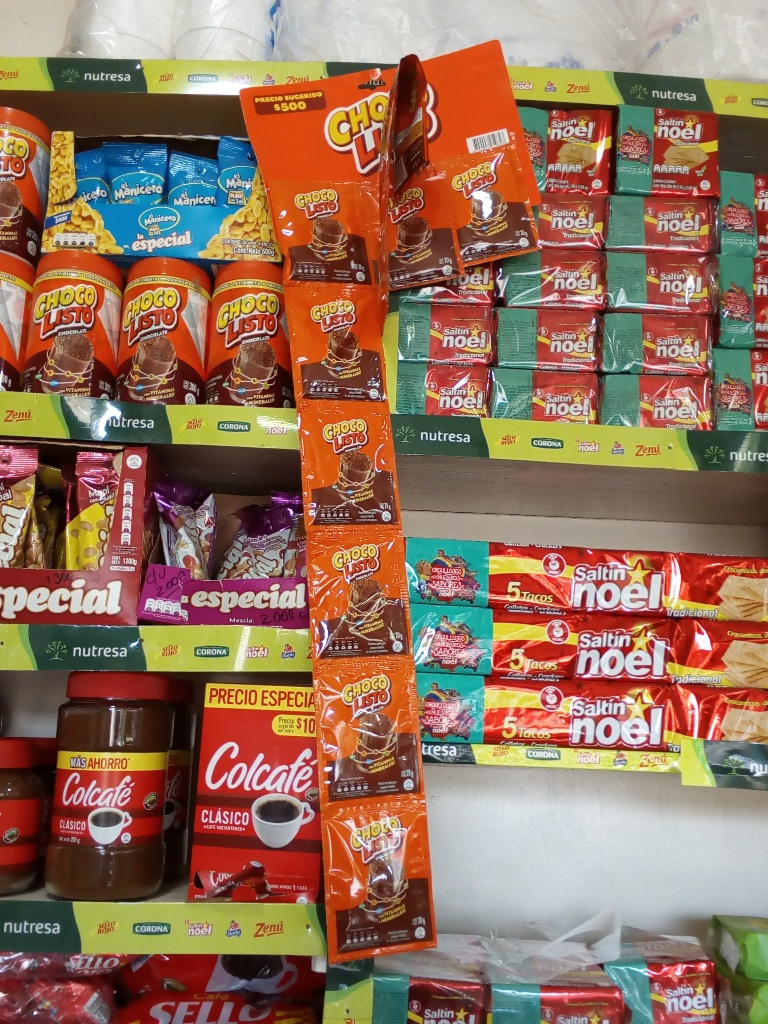COL0170103SOB02000: (269, 166, 374, 282)
COL0170103TRR00100: (0, 89, 44, 252)
